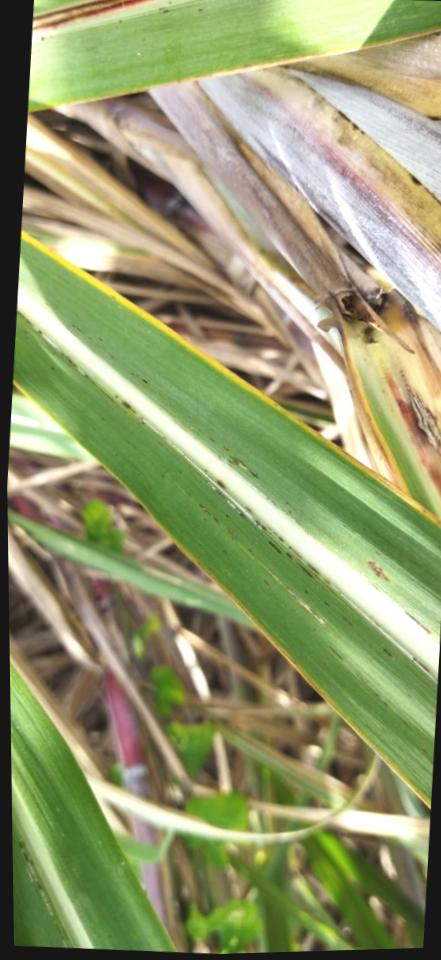Rust: (202, 477, 332, 586), (243, 546, 326, 625), (16, 310, 94, 385), (353, 671, 410, 729), (218, 443, 261, 482), (401, 608, 431, 635), (264, 496, 298, 517), (364, 558, 391, 584), (196, 503, 219, 525), (113, 394, 137, 415), (326, 644, 343, 662), (411, 657, 430, 672), (340, 614, 353, 629), (381, 646, 392, 659), (137, 377, 149, 387), (261, 577, 270, 587)
Yellow: (13, 379, 430, 811), (21, 229, 441, 530)
